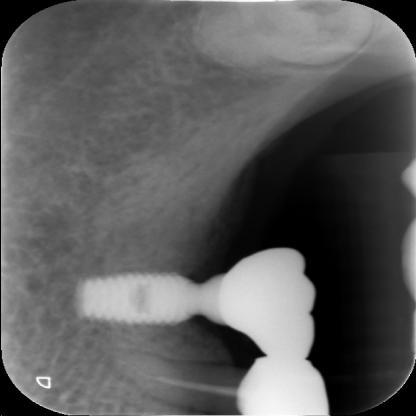Bicon: (74, 276, 192, 328)
